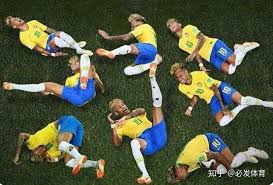fall: (166, 126, 269, 181)
